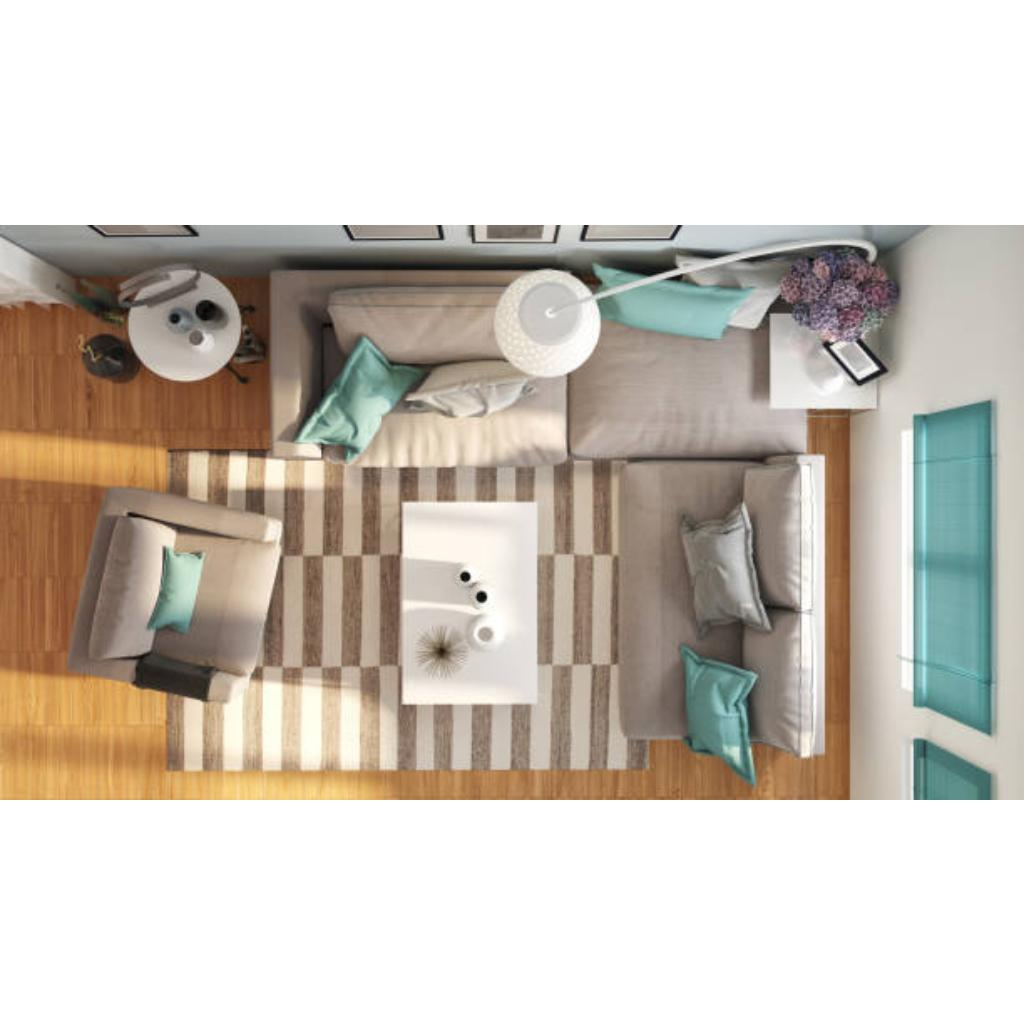chair: (69, 483, 283, 697)
coffee table: (399, 500, 539, 704)
floor vase: (76, 336, 118, 380), (78, 292, 118, 322)
rug: (166, 448, 654, 772)
side table: (126, 267, 250, 387), (804, 315, 878, 407)
sofa: (270, 270, 798, 452), (620, 456, 826, 758)
window: (972, 403, 988, 733)
